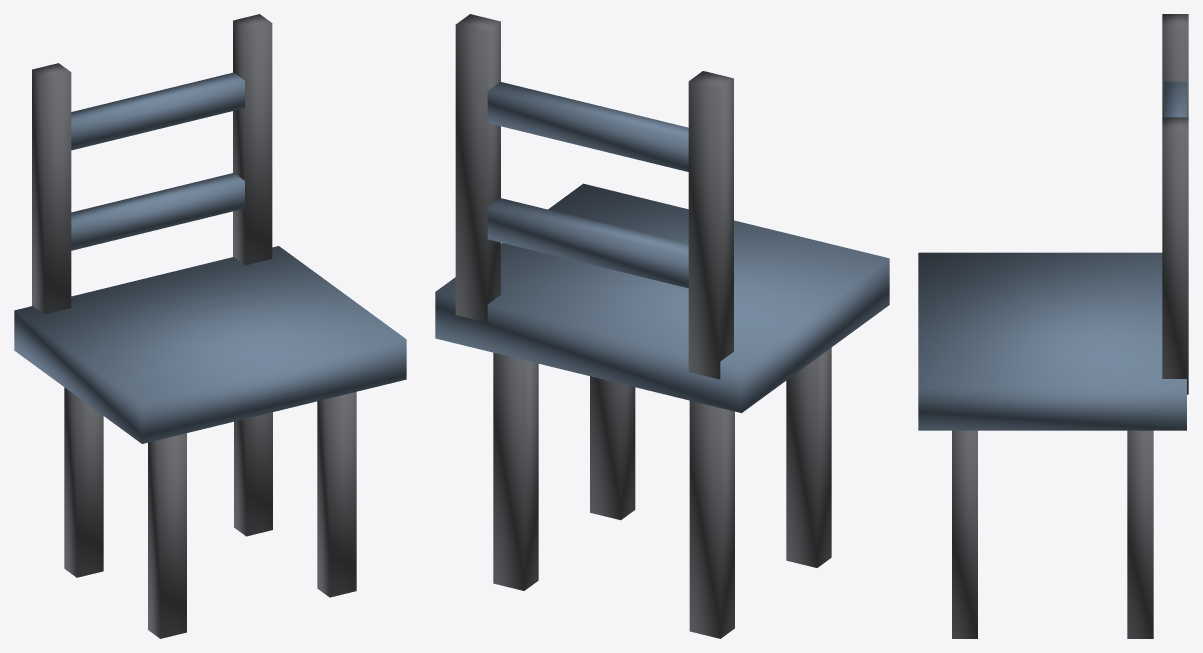
Rendered from waiting_chair__wide.glb.
3 views of the same model, side by side, from view 1: azimuth 30°, elevation 25°; view 2: azimuth 150°, elevation 25°; view 3: azimuth 270°, elevation 25° (orthographic). The views are drawn at different scales.
Visible parts, largest first — view 1: world; view 2: world; view 3: world.
Part boxes in pixels (<box>): world: <box>14,14,406,638</box>; world: <box>435,14,889,638</box>; world: <box>918,14,1188,638</box>.
Size of the model in its own units: 0.5518 by 0.9782 by 0.4641.
